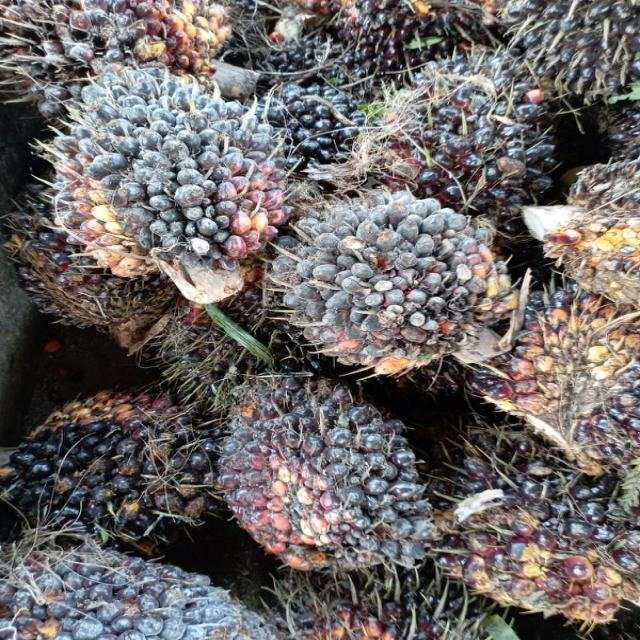fraksi 1: (34, 34, 314, 318), (269, 154, 546, 397), (209, 362, 457, 632)
